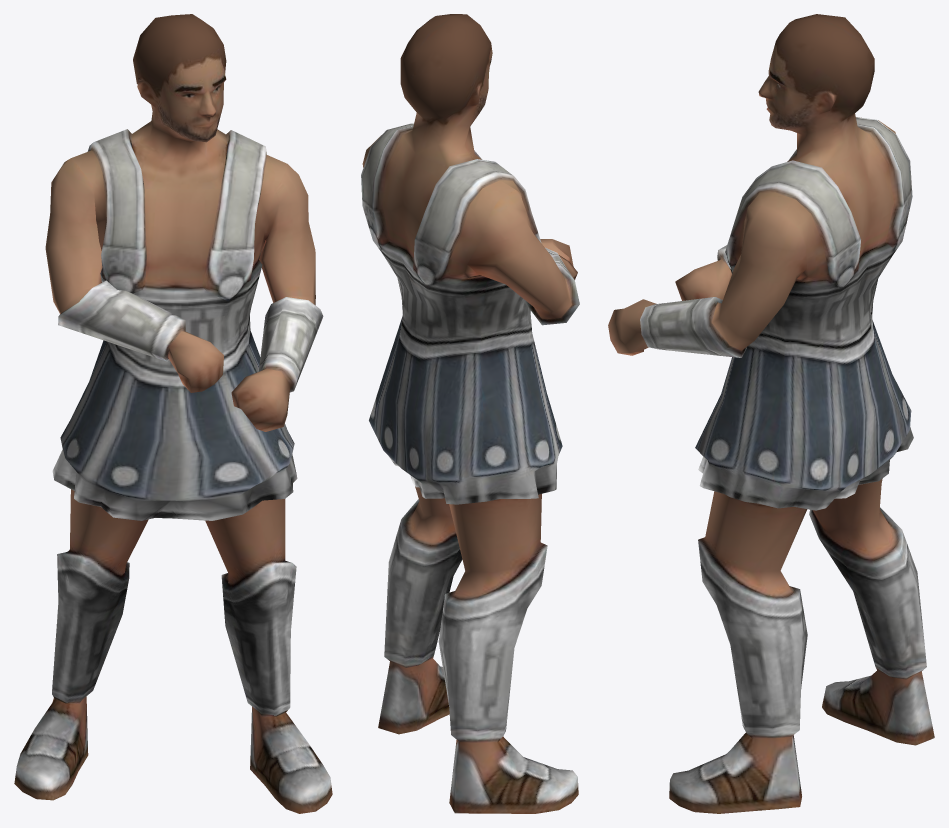
File: body-championarchers.glb
3 renders of one model, left to right at view 1: azimuth 30°, elevation 25°; view 2: azimuth 150°, elevation 25°; view 3: azimuth 270°, elevation 25°, orthographic.
Size of the model in its own units: 0.7059 by 2.08 by 0.8201.
Materials: 1 (1 with a texture image).
